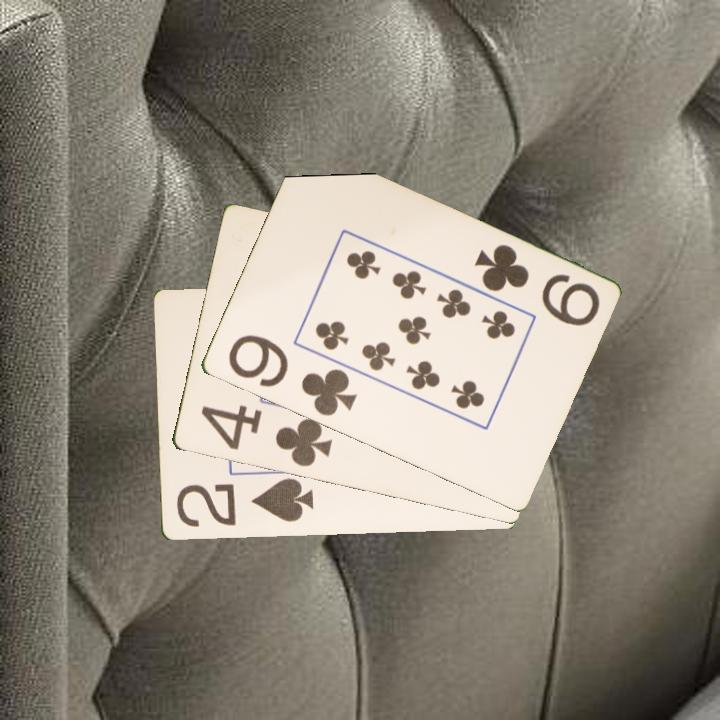2s: (172, 475, 316, 530)
4c: (197, 402, 335, 470)
9c: (224, 331, 360, 420), (470, 240, 602, 330)
